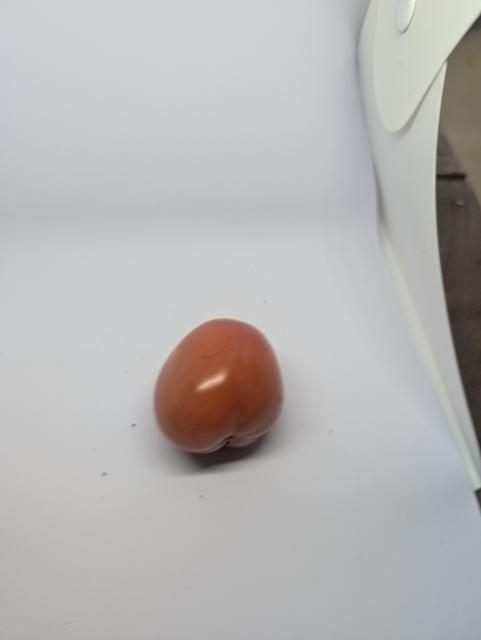red: (148, 315, 291, 459)
